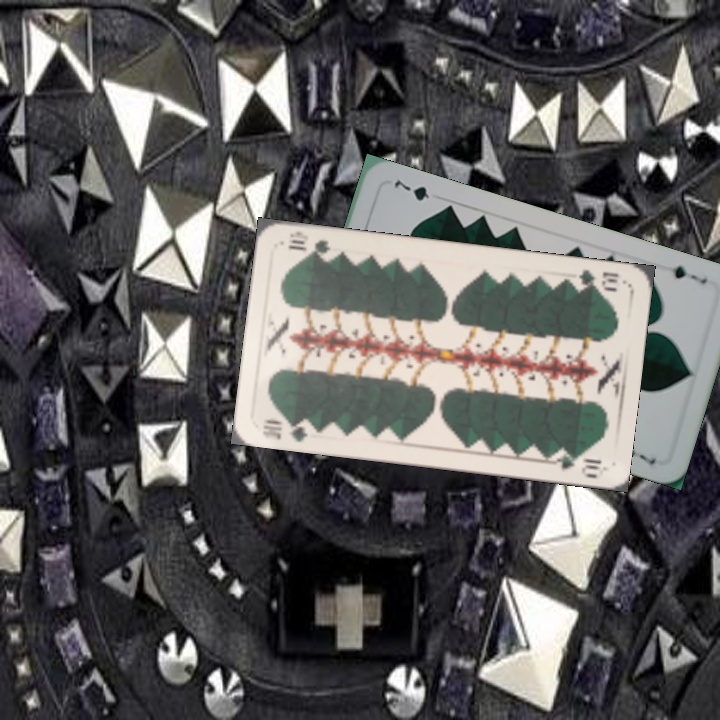G10: (258, 415, 317, 444), (575, 265, 621, 294)
G7: (668, 262, 710, 287)
